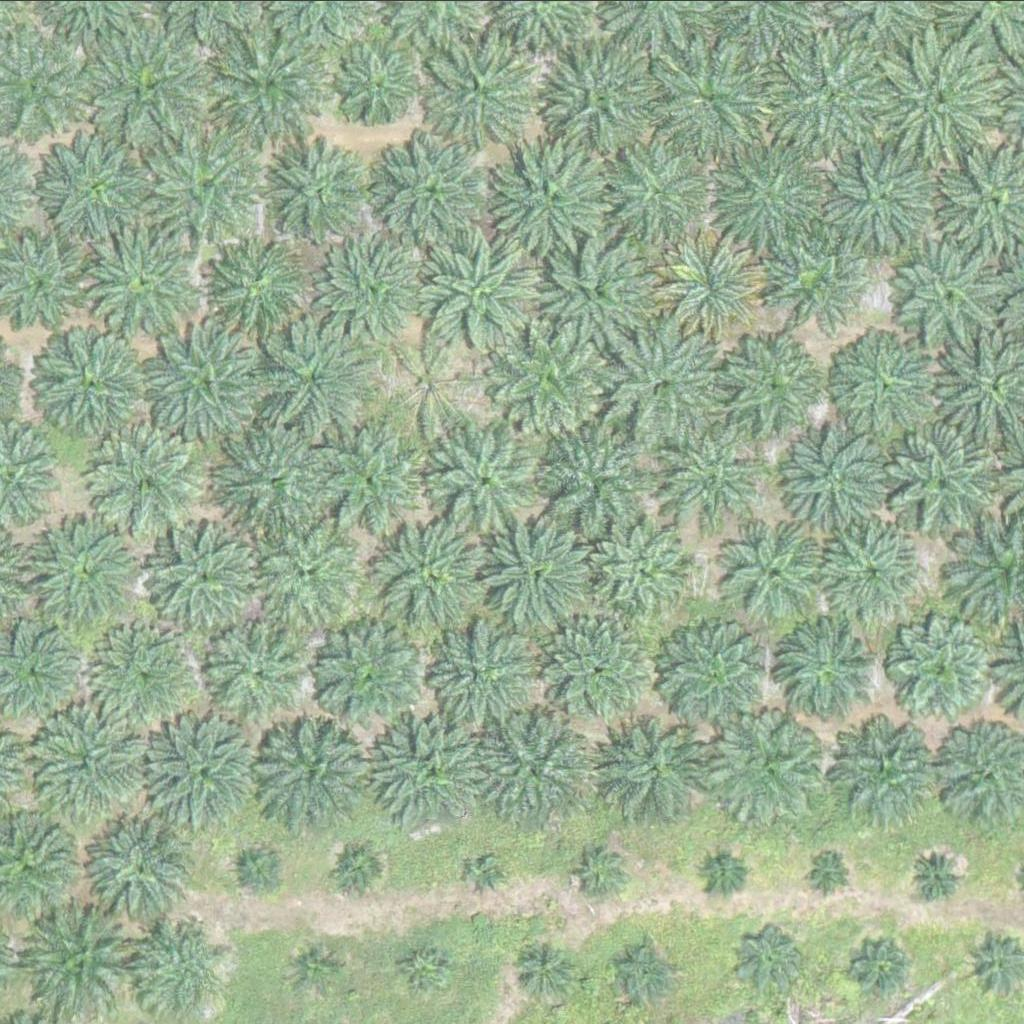Kelapa_Sawit: (28, 503, 154, 628), (210, 20, 336, 145), (651, 36, 777, 161), (770, 30, 896, 155), (136, 518, 262, 643), (873, 36, 998, 161), (30, 701, 144, 814), (422, 31, 536, 144), (85, 227, 199, 340), (375, 132, 489, 245), (884, 612, 998, 725), (716, 708, 830, 821), (31, 325, 144, 438), (547, 45, 660, 158), (492, 144, 605, 257), (86, 815, 199, 928), (375, 711, 488, 824), (477, 710, 590, 823), (592, 710, 705, 823), (86, 623, 199, 736), (247, 514, 360, 627), (540, 427, 653, 540), (432, 419, 545, 532), (315, 423, 428, 536), (217, 429, 330, 542), (493, 323, 606, 436), (145, 129, 258, 242), (658, 229, 771, 342), (891, 232, 1004, 345), (611, 327, 724, 440), (716, 331, 829, 444), (661, 618, 774, 731), (30, 902, 144, 1014), (86, 424, 200, 536), (146, 324, 260, 436), (323, 229, 437, 341), (835, 716, 949, 828), (36, 128, 149, 240), (90, 31, 203, 143), (602, 133, 715, 245), (711, 143, 824, 255), (822, 143, 935, 255), (152, 714, 265, 826), (264, 714, 377, 826), (313, 617, 426, 729), (198, 610, 311, 722), (371, 512, 484, 624), (478, 516, 591, 628), (258, 322, 371, 434), (542, 237, 655, 349), (420, 236, 533, 348), (656, 420, 769, 532), (888, 424, 1001, 536), (380, 333, 481, 433), (544, 613, 645, 713), (430, 617, 531, 717), (598, 516, 699, 616), (836, 334, 937, 434), (781, 427, 882, 527), (730, 519, 831, 619), (207, 238, 307, 338), (265, 139, 365, 239), (823, 518, 923, 618), (777, 614, 877, 714), (773, 237, 862, 324), (137, 925, 225, 1012), (341, 50, 417, 125), (729, 919, 804, 994), (856, 935, 919, 998), (906, 845, 969, 908), (516, 936, 579, 998), (613, 937, 676, 999), (573, 846, 624, 896), (697, 850, 748, 900), (401, 942, 451, 992), (292, 941, 342, 991), (805, 846, 855, 896), (233, 844, 283, 894), (336, 843, 386, 893), (468, 856, 506, 894)
